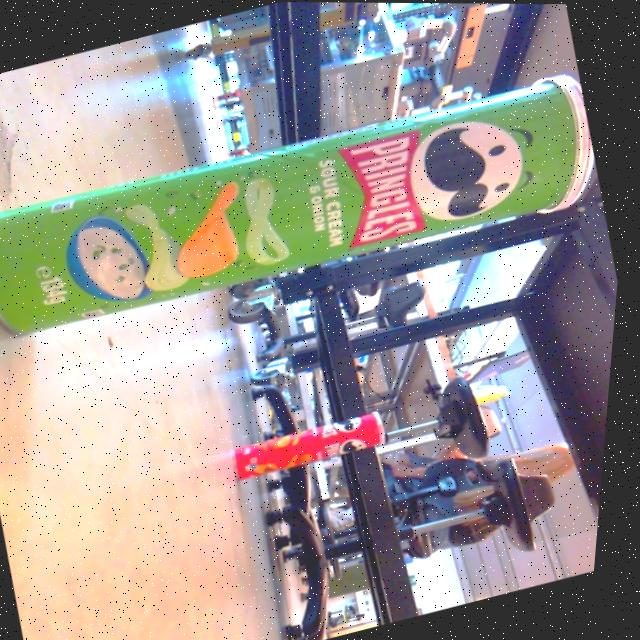greenpringles: (0, 59, 616, 370)
redpringles: (211, 398, 411, 510)
